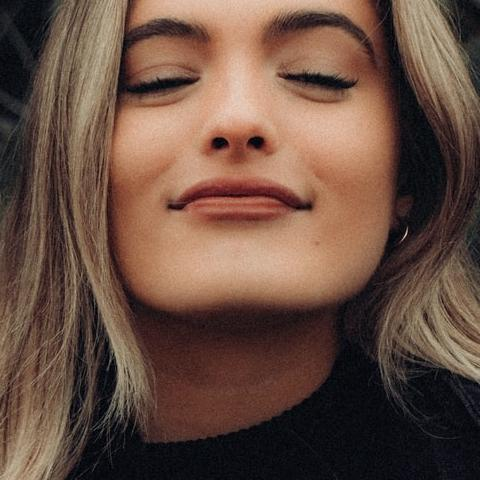closed: (110, 1, 378, 142)
